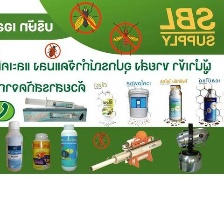insecticide: (3, 118, 24, 174), (20, 105, 87, 122), (58, 122, 80, 173), (31, 132, 54, 171), (126, 87, 151, 121), (21, 97, 84, 110), (200, 87, 218, 123), (166, 87, 185, 120), (101, 95, 119, 119)
